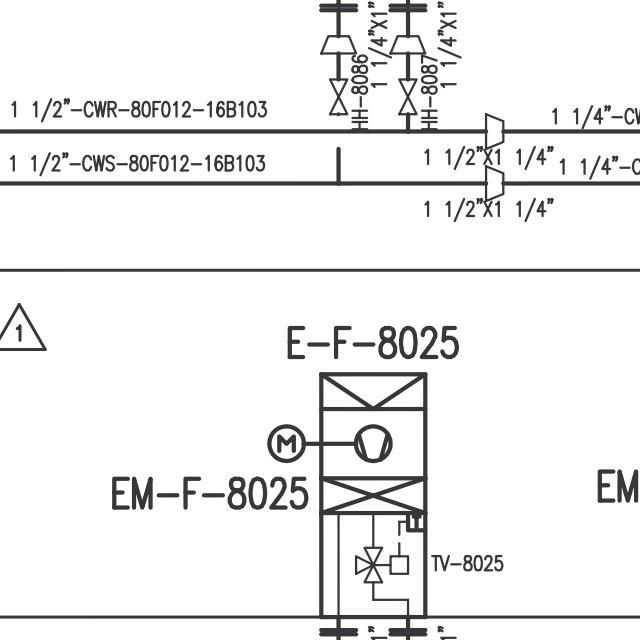3W: (352, 542, 385, 589)
GV: (393, 77, 418, 119), (327, 76, 350, 118)
M: (265, 419, 306, 461)
P: (354, 423, 395, 463)
SP: (480, 108, 511, 148), (313, 35, 361, 60), (388, 29, 427, 58), (483, 163, 509, 201)
